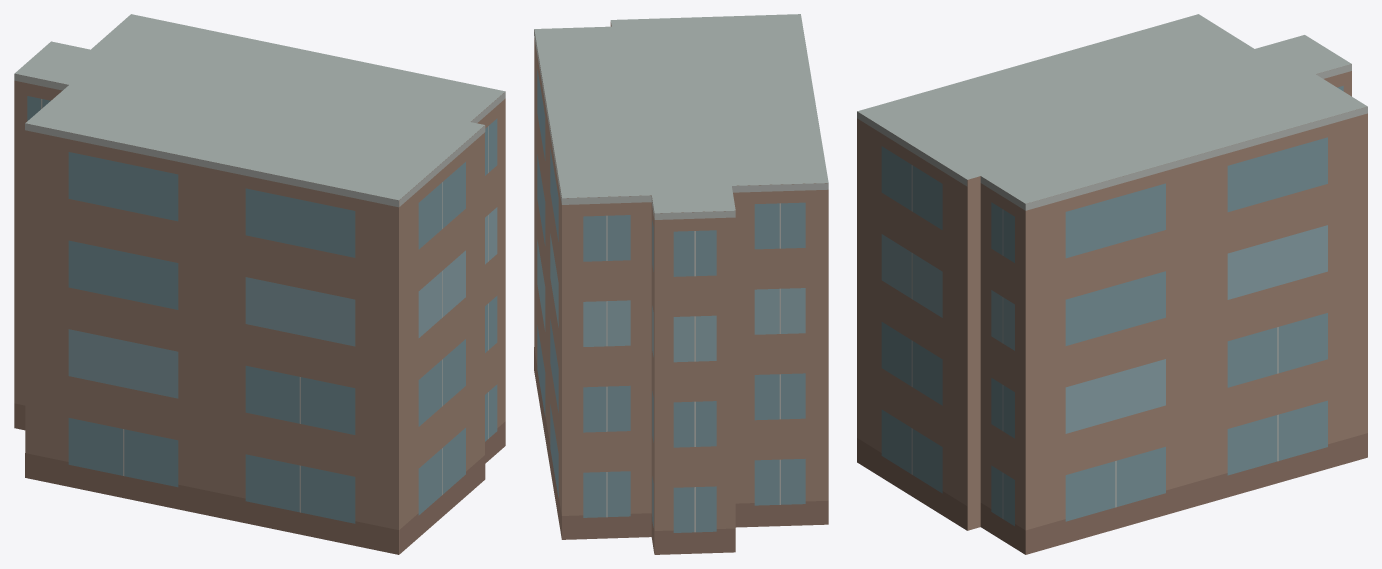
The model's file is survey-upis-33002045.glb.
3 renders of one model, left to right at view 1: azimuth 30°, elevation 25°; view 2: azimuth 150°, elevation 25°; view 3: azimuth 270°, elevation 25°, orthographic. The views are drawn at different scales.
Parts seen in each view (by area): view 1: survey-upis-33002045.tmp; view 2: survey-upis-33002045.tmp; view 3: survey-upis-33002045.tmp.
Boxes of the visible parts, <box> form: survey-upis-33002045.tmp: <box>14,14,505,554</box>; survey-upis-33002045.tmp: <box>534,14,828,554</box>; survey-upis-33002045.tmp: <box>857,14,1367,554</box>.
Size of the model in its own units: 14.28 by 12.3 by 16.23.
